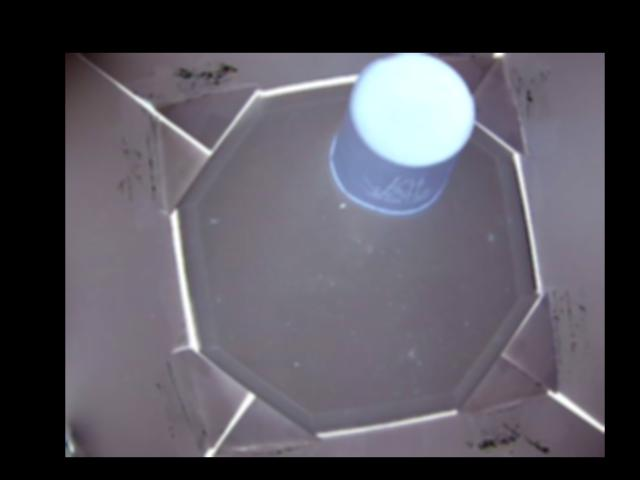Cup: (330, 55, 476, 216)
